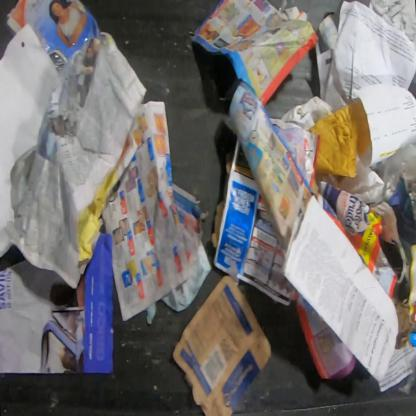cardboard: (171, 275, 272, 416), (305, 96, 372, 179), (210, 148, 234, 251), (390, 296, 414, 350), (407, 243, 415, 334)
soft_plastic: (374, 142, 416, 196)
